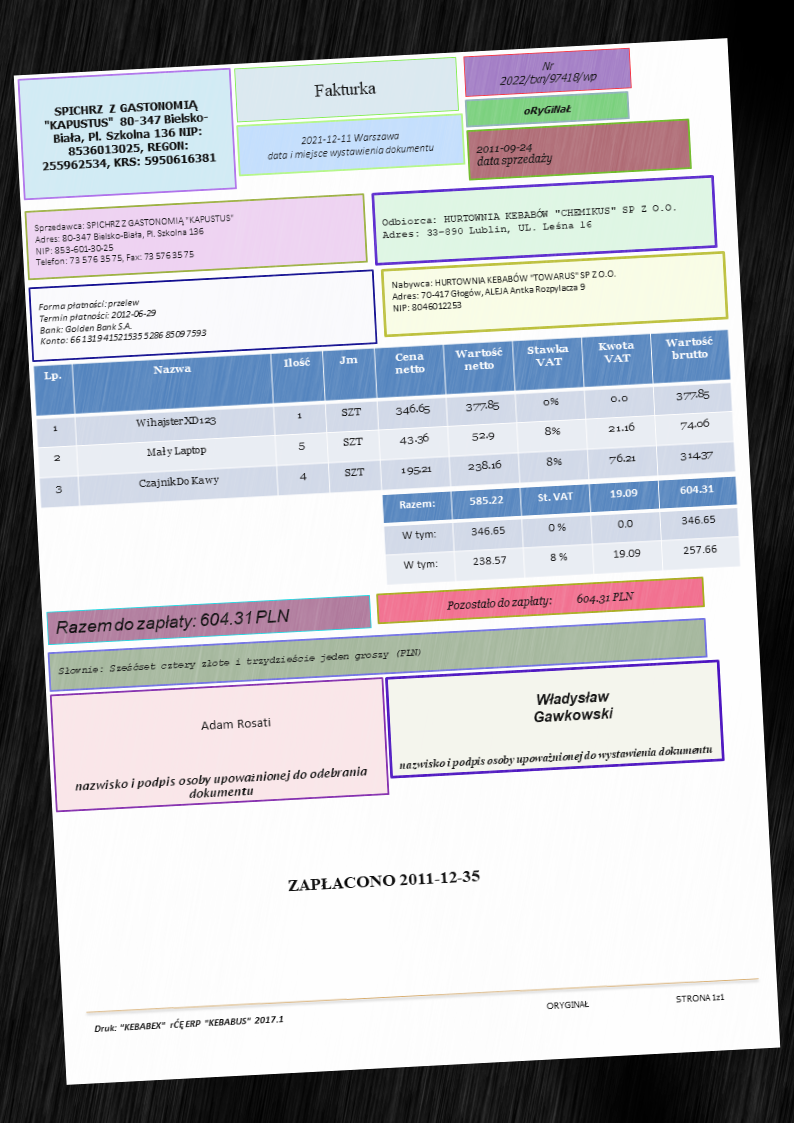Table: (33, 329, 736, 509), (382, 476, 741, 586)
TextBox: (36, 97, 218, 173), (380, 199, 680, 242), (71, 764, 369, 806), (55, 645, 425, 678), (32, 212, 238, 268), (389, 267, 620, 314), (397, 742, 715, 775), (36, 293, 209, 347), (51, 606, 295, 639), (262, 127, 436, 163), (285, 866, 484, 895), (443, 588, 636, 614), (91, 1012, 286, 1036), (494, 56, 599, 91), (531, 686, 615, 725), (473, 141, 555, 171), (312, 79, 378, 100), (197, 715, 272, 733), (520, 101, 574, 119), (673, 992, 726, 1006), (543, 998, 590, 1012)
